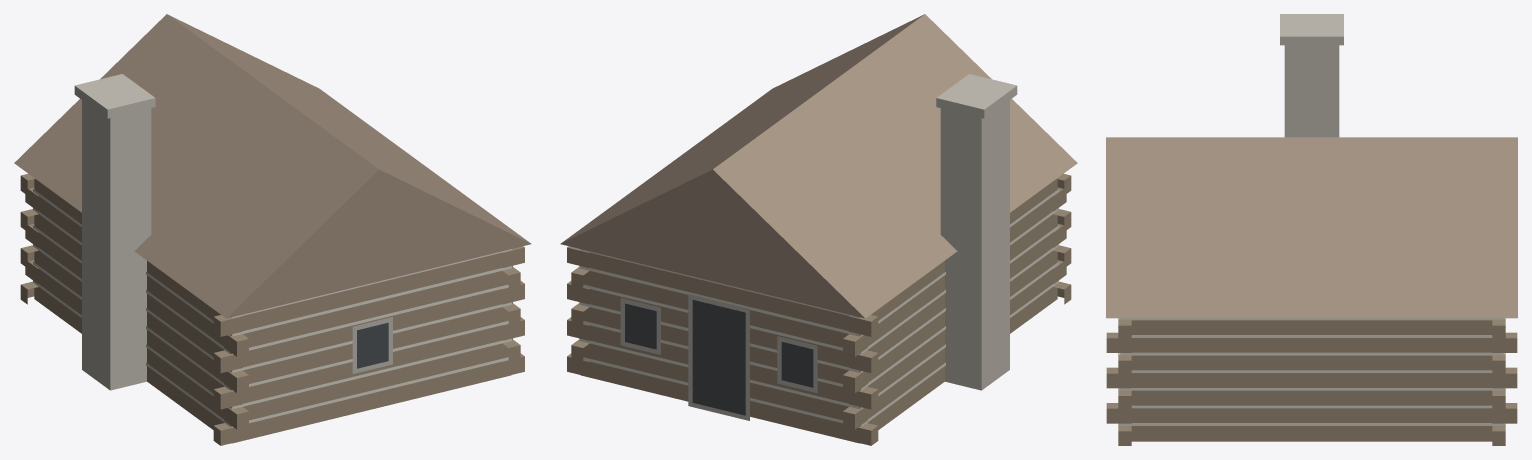
The model's file is recon_1835_north_d1_060__inferred_1835.glb.
3 views of the same model, side by side, from view 1: azimuth 30°, elevation 25°; view 2: azimuth 150°, elevation 25°; view 3: azimuth 270°, elevation 25° (orthographic). The views are drawn at different scales.
Parts seen in each view (by area): view 1: recon_1835_north_d1_060__inferred_1835; view 2: recon_1835_north_d1_060__inferred_1835; view 3: recon_1835_north_d1_060__inferred_1835.
Boxes of the visible parts, left/top/right/bottom form: recon_1835_north_d1_060__inferred_1835: left=14, top=14, right=531, bottom=445; recon_1835_north_d1_060__inferred_1835: left=560, top=14, right=1077, bottom=445; recon_1835_north_d1_060__inferred_1835: left=1106, top=14, right=1517, bottom=445.
Bounding box in the file's own units: 6.56 × 5.38 × 7.21.
